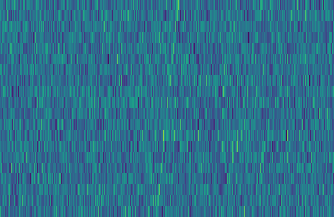signal: (152, 0, 183, 217)
